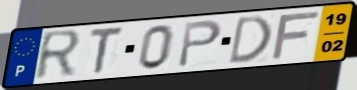0: (136, 22, 176, 72)
D: (226, 13, 274, 67)
F: (268, 9, 323, 63)
P: (175, 18, 224, 69)
R: (33, 28, 85, 83)
T: (87, 25, 126, 77)
